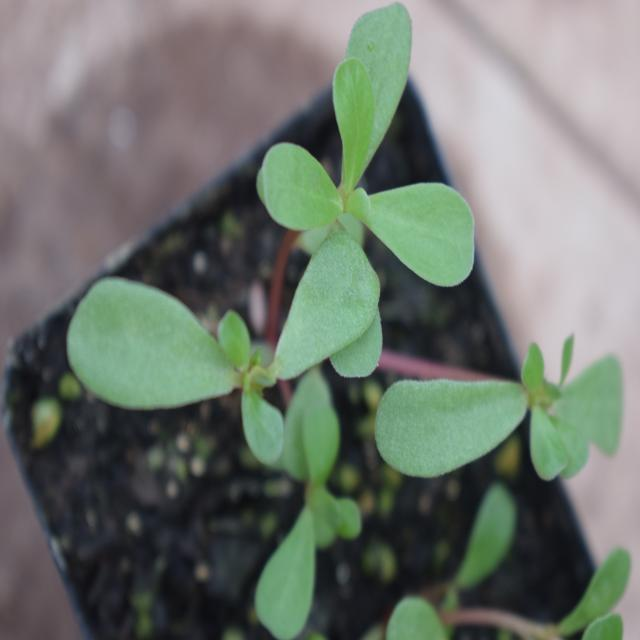purslane: (75, 15, 622, 491)
